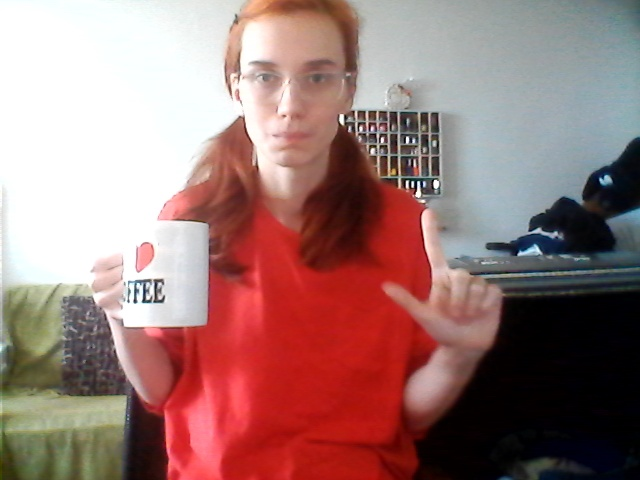l: (377, 197, 514, 351)
